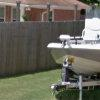Boat: (38, 20, 100, 86)
